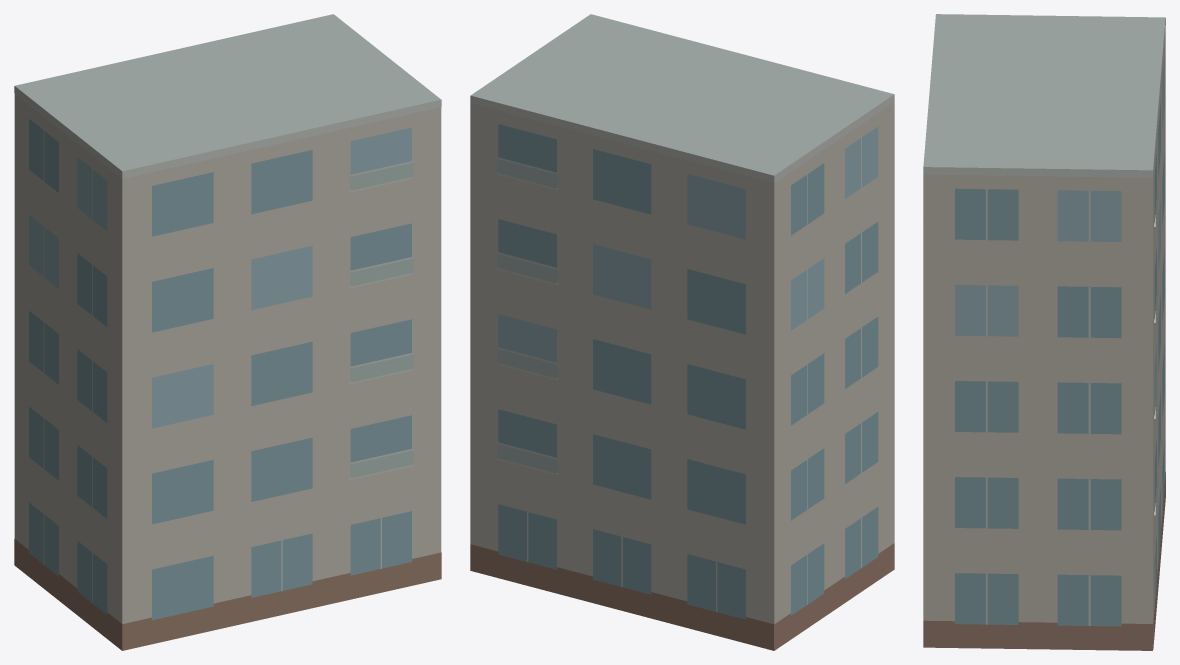
Rendered from survey-upis-32586118.glb.
The picture shows the model from 3 angles, left to right: view 1: azimuth 30°, elevation 25°; view 2: azimuth 150°, elevation 25°; view 3: azimuth 270°, elevation 25°; orthographic projection.
Visible parts, largest first — view 1: survey-upis-32586118.tmp; view 2: survey-upis-32586118.tmp; view 3: survey-upis-32586118.tmp.
Part boxes in pixels (box(x1,y1,x2,y2)): survey-upis-32586118.tmp: box(14, 14, 441, 650); survey-upis-32586118.tmp: box(470, 14, 894, 650); survey-upis-32586118.tmp: box(923, 14, 1165, 650).
Bounding box in the file's own units: 10.82 × 15.5 × 7.1.
